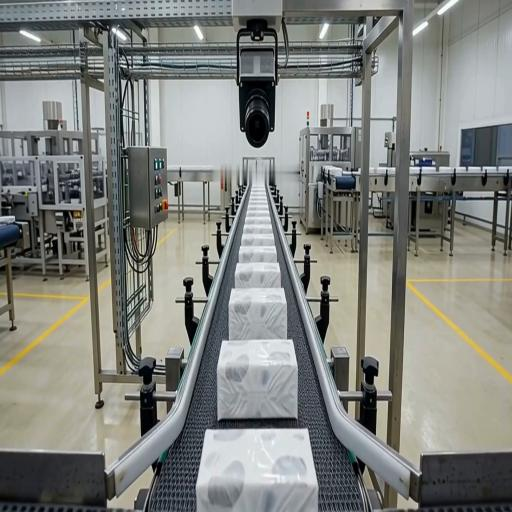good: (195, 428, 319, 512), (217, 340, 298, 421), (228, 285, 288, 341), (234, 262, 281, 288), (238, 244, 277, 263), (241, 233, 275, 245), (243, 224, 273, 233), (244, 216, 271, 223), (246, 210, 270, 216), (247, 204, 269, 209), (248, 200, 268, 204), (249, 195, 267, 199), (250, 191, 266, 195), (251, 187, 266, 191)
